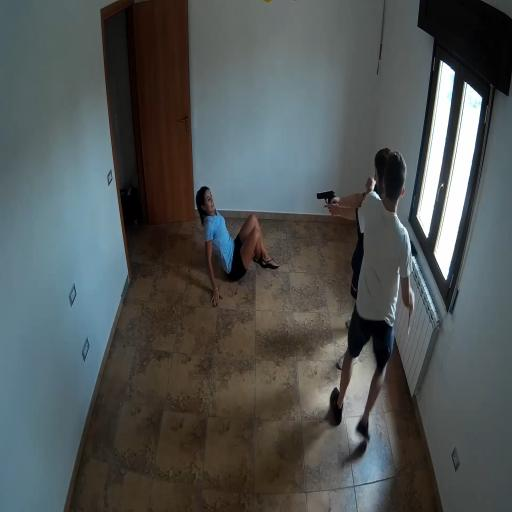violencia: (305, 121, 424, 462)
